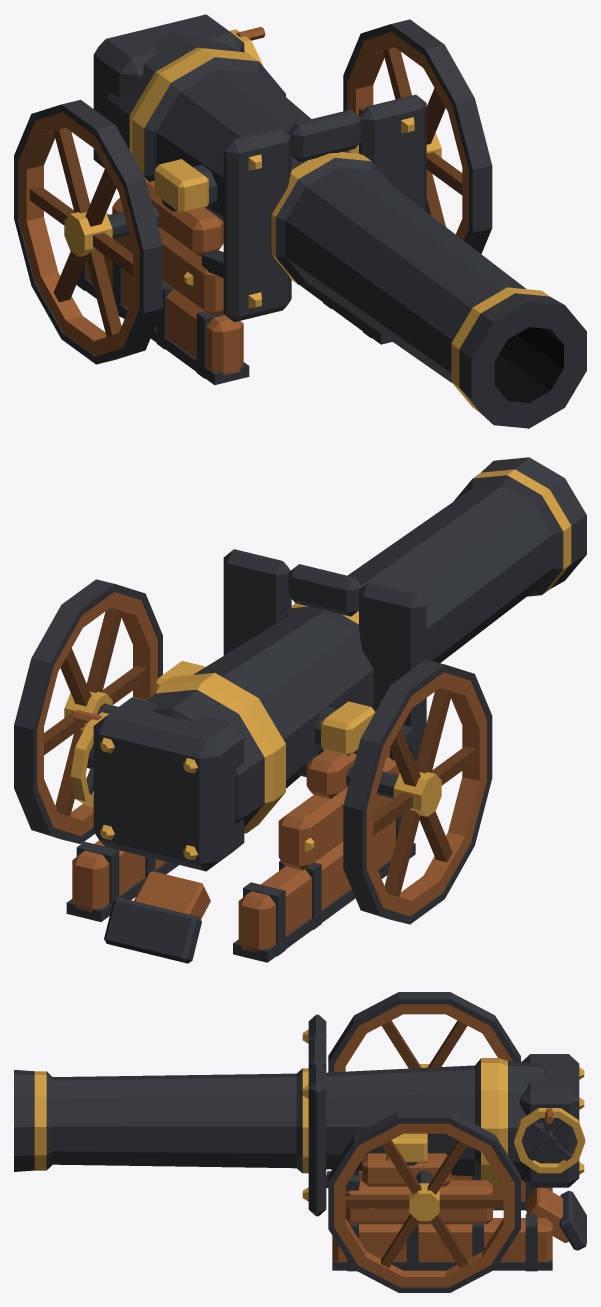
File: CannonB1.obj
The picture shows the model from 3 angles, top to bottom: view 1: azimuth 30°, elevation 25°; view 2: azimuth 150°, elevation 25°; view 3: azimuth 270°, elevation 25°; orthographic projection. The views are drawn at different scales.
Parts seen in each view (by area): view 1: CannonB1; view 2: CannonB1; view 3: CannonB1.
Boxes of the visible parts, bbox=[...] form: CannonB1: bbox=[14, 14, 586, 428]; CannonB1: bbox=[14, 457, 586, 963]; CannonB1: bbox=[14, 992, 586, 1292].
Bounding box in the file's own units: 1.24 × 0.8398 × 2.31.
